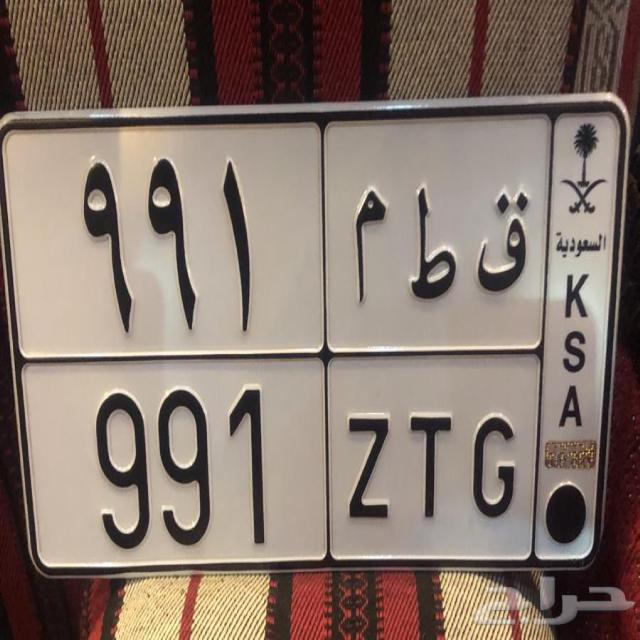license_plate: (15, 354, 542, 568)
